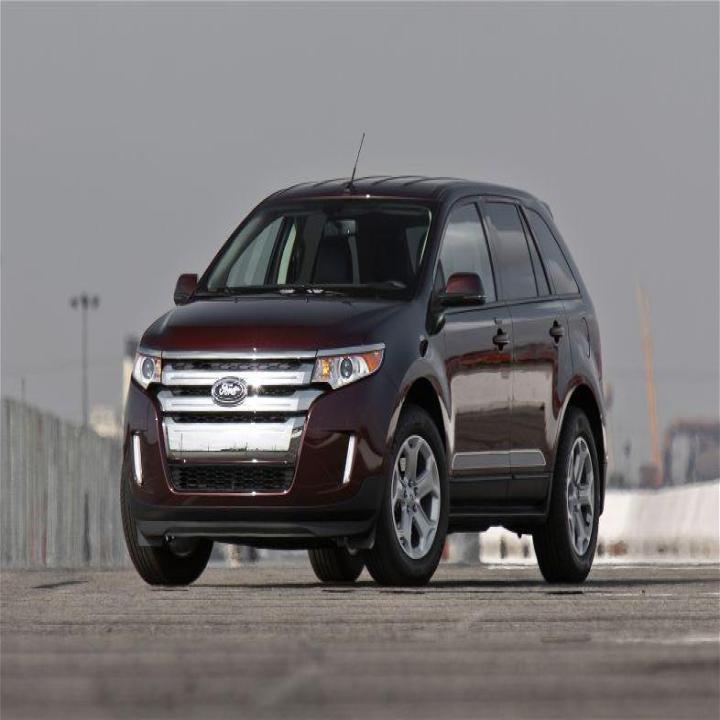car: (119, 135, 610, 588)
